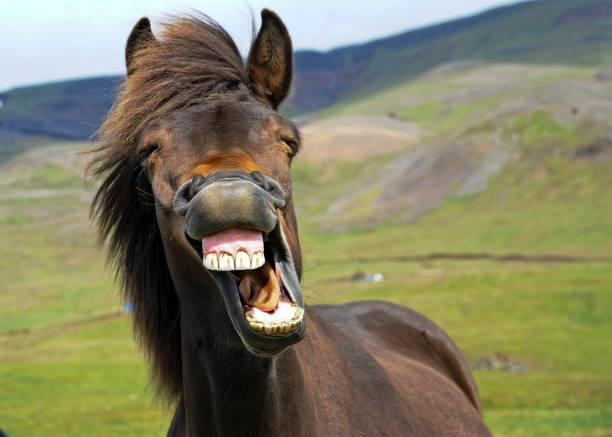Non_Gorille: (78, 0, 443, 437)
